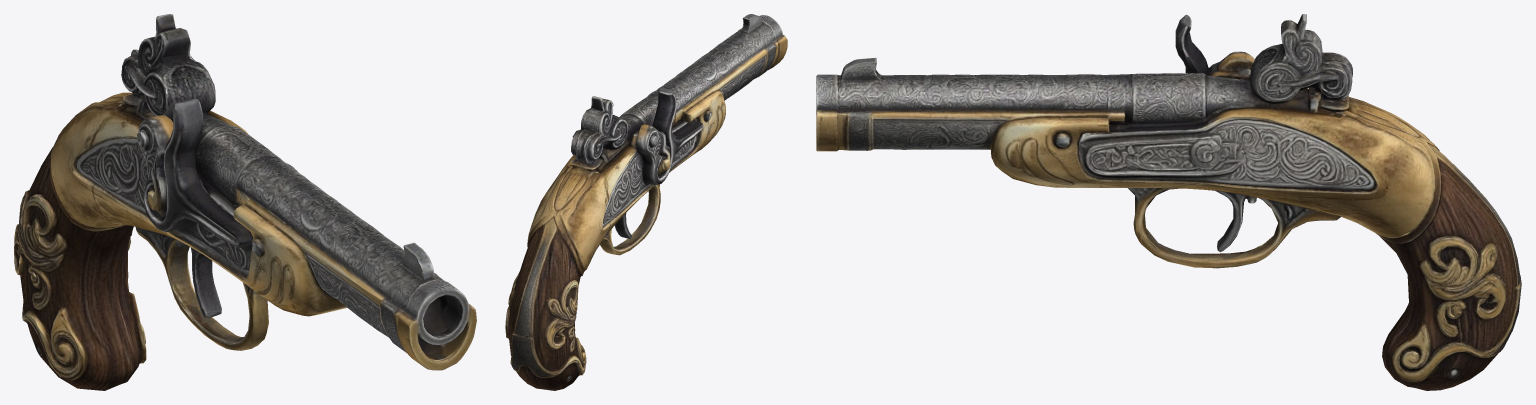
File: flintlock.medium.glb
The picture shows the model from 3 angles, left to right: view 1: azimuth 30°, elevation 25°; view 2: azimuth 150°, elevation 25°; view 3: azimuth 270°, elevation 25°; orthographic projection. The views are drawn at different scales.
Parts seen in each view (by area): view 1: model; view 2: model; view 3: model.
Part boxes in pixels (box(x1,y1,x2,y2)): model: box(14, 14, 476, 390); model: box(505, 14, 787, 390); model: box(816, 14, 1521, 390).
Bounding box in the file's own units: 0.0568 × 0.1966 × 0.34.
1 material, 1 textured.
